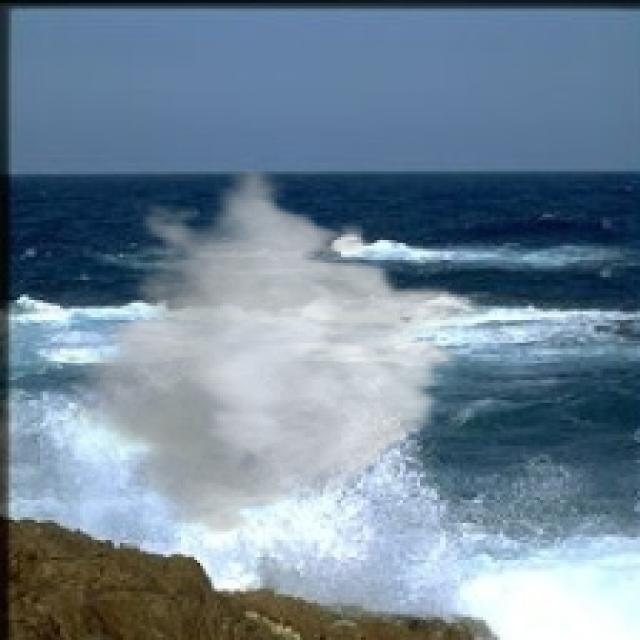Smoke: (60, 168, 483, 538)
